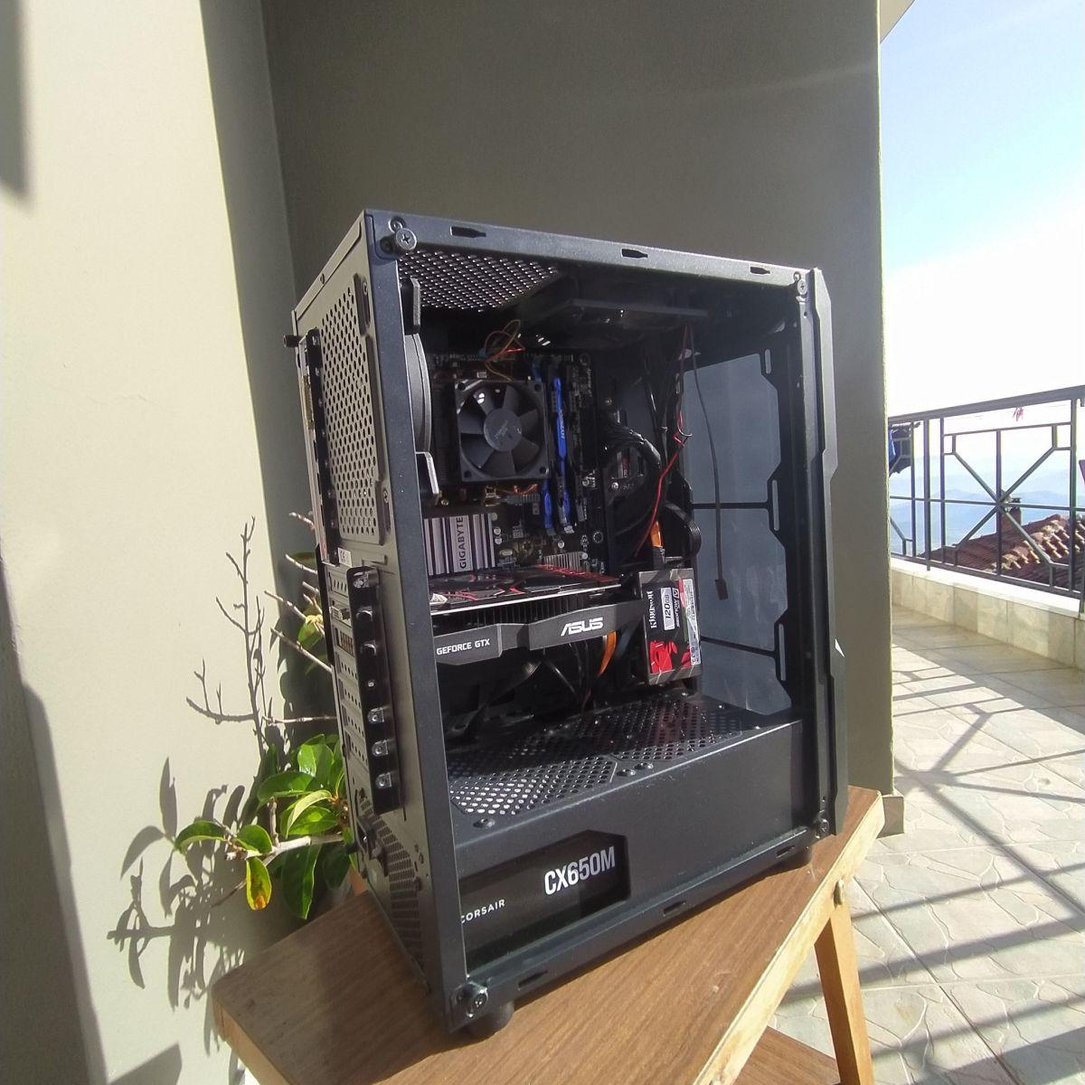computer_tower: (293, 222, 835, 984)
